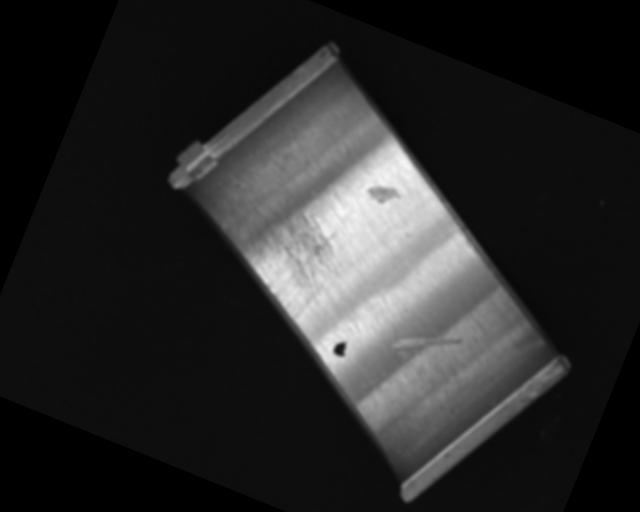blot: (330, 338, 350, 359)
bruise: (363, 179, 403, 211)
nick: (358, 314, 408, 396), (391, 315, 461, 370)
scratch: (206, 184, 363, 333)
